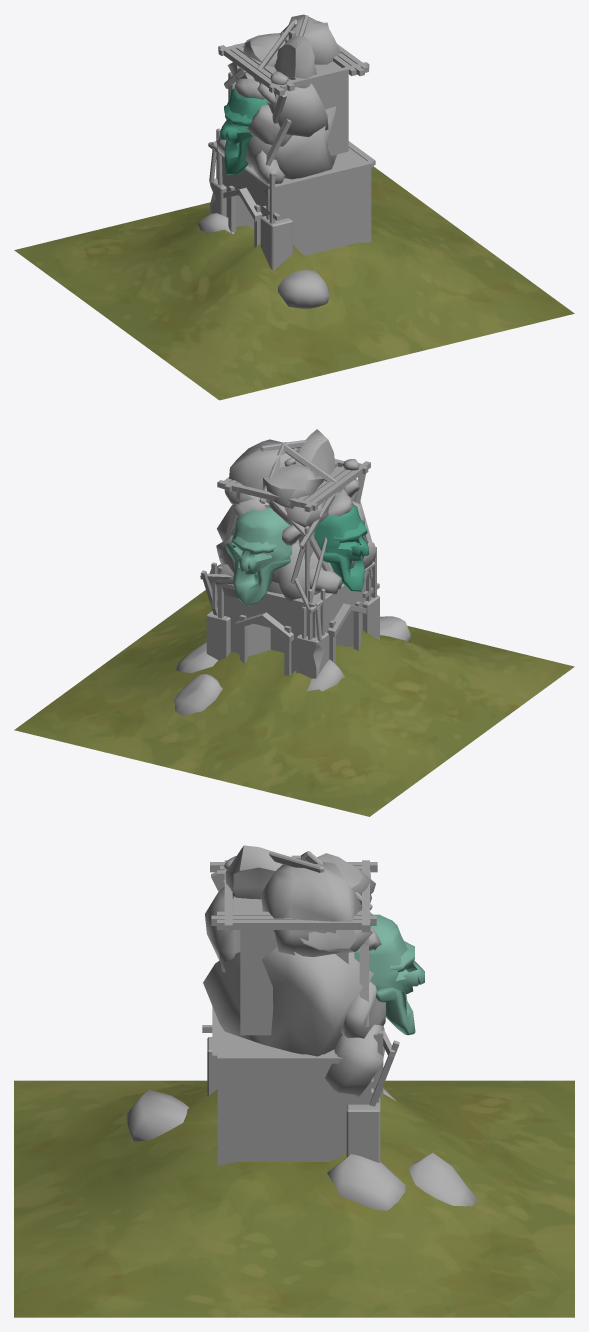
File: Frost Tower fixed pos.fbx
3 renders of one model, top to bottom at view 1: azimuth 30°, elevation 25°; view 2: azimuth 150°, elevation 25°; view 3: azimuth 270°, elevation 25°, orthographic. The views are drawn at different scales.
Parts seen in each view (by area): view 1: polySurface46; view 2: polySurface46; view 3: polySurface46.
Part boxes in pixels (bbox=[...]): polySurface46: bbox=[14, 14, 574, 400]; polySurface46: bbox=[14, 429, 574, 816]; polySurface46: bbox=[14, 845, 574, 1317].
Bounding box in the file's own units: 1 × 0.691 × 1.
